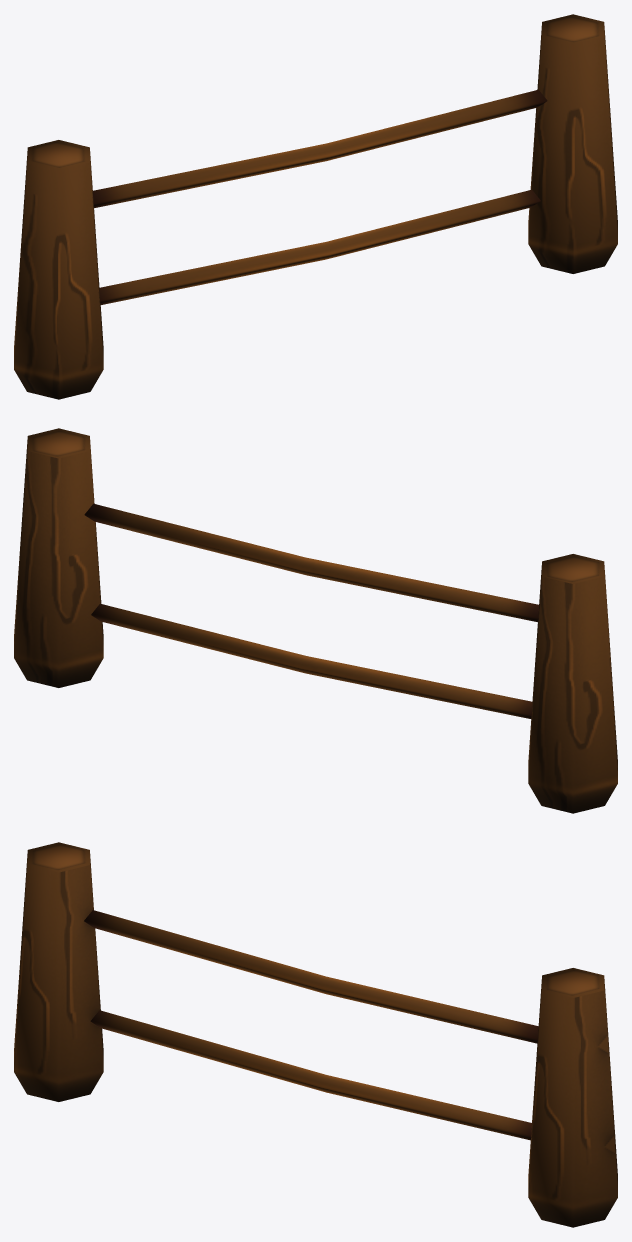
File: Fence2.glb
3 views of the same model, one above another, from view 1: azimuth 30°, elevation 25°; view 2: azimuth 150°, elevation 25°; view 3: azimuth 330°, elevation 25° (orthographic).
Parts seen in each view (by area): view 1: Fence_02; view 2: Fence_02; view 3: Fence_02.
Part boxes in pixels (x1=…): Fence_02: x1=14, y1=14, x2=617, y2=399; Fence_02: x1=14, y1=428, x2=617, y2=813; Fence_02: x1=14, y1=842, x2=617, y2=1227.
Size of the model in its own units: 54.32 by 19.7 by 6.98.
1 material, 1 textured.
